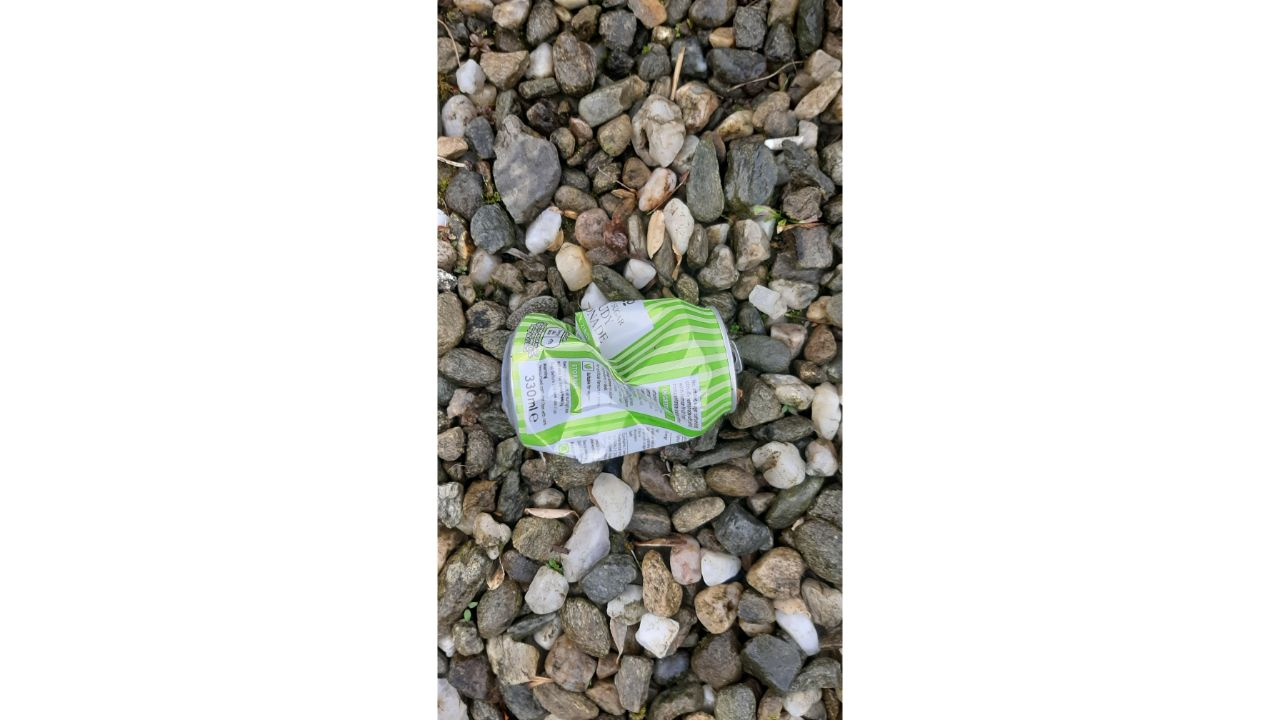Can: (501, 300, 747, 466)
